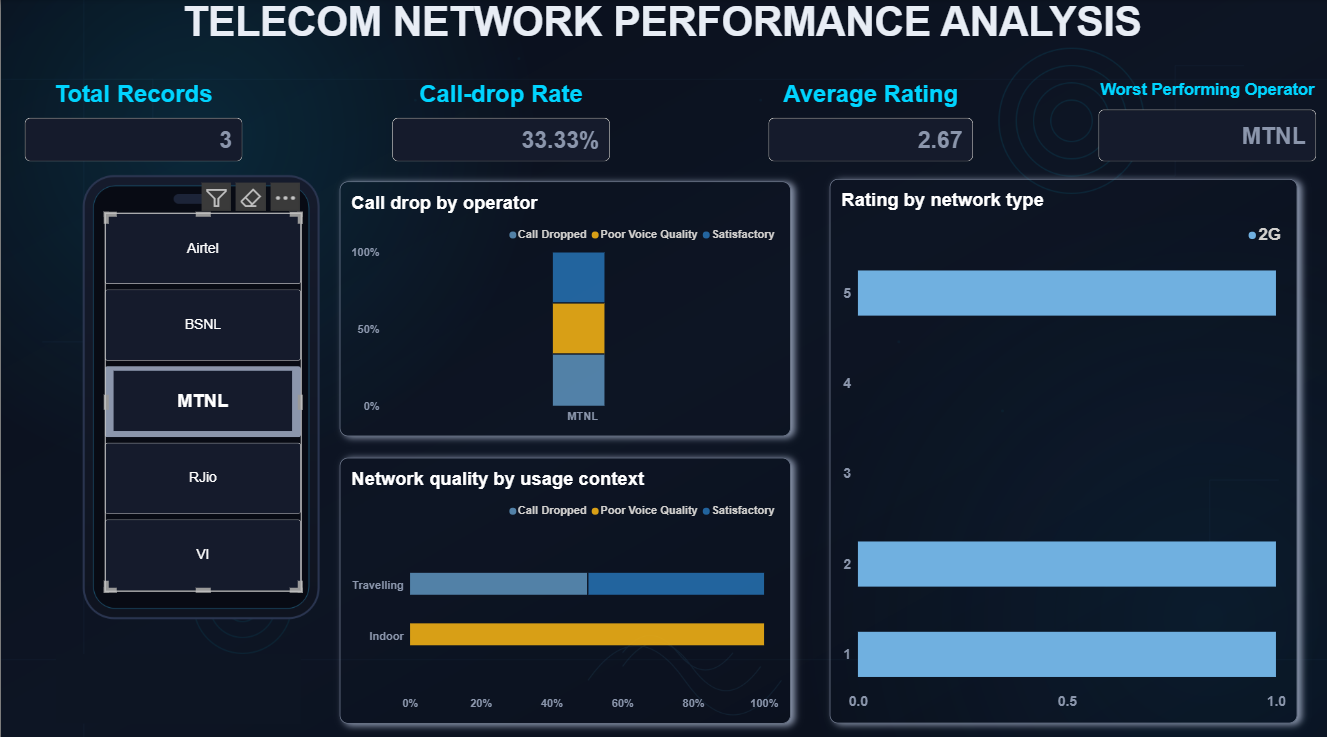

Layout of this report page (visuals, bound fields, positions):
{"tool":"powerbi","page":{"name":"Page 1","canvas":[1920,1080],"ordinal":0},"visuals":[{"type":"textbox","box":[10.3,0,1893.7,98.8],"z":0},{"type":"cardVisual","title":"Total Records","fields":{"Data":["Telecom Network.Total Records"]},"box":[35,117.3,315,118],"z":1000},{"type":"cardVisual","title":"Call-drop Rate","fields":{"Data":["Telecom Network.Call Drop Rate"]},"box":[566,117.3,315,118],"z":2000},{"type":"cardVisual","title":"Average Rating","fields":{"Data":["Telecom Network.Average Rating"]},"box":[1111.5,117.3,296,118],"z":3000},{"type":"cardVisual","title":"Worst Performing Operator","fields":{"Data":["Telecom Network.Worst Operator Name"]},"box":[1589,117.3,315,118],"z":4000},{"type":"hundredPercentStackedColumnChart","title":"Call drop by operator","fields":{"Category":["Telecom Network.operator"],"Y":["Telecom Network.Total Records"],"Series":["Telecom Network.calldrop_category"]},"box":[489.9,263.5,652.5,368.4],"z":5000},{"type":"clusteredBarChart","title":"Rating by network type","fields":{"Category":["Telecom Network.rating"],"Y":["Telecom Network.Total Records"],"Series":["Telecom Network.network_type"]},"box":[1200,261.4,677.2,788.3],"z":5002},{"type":"hundredPercentStackedBarChart","title":"Network quality by usage context","fields":{"Category":["Telecom Network.inout_travelling"],"Y":["Telecom Network.Total Records"],"Series":["Telecom Network.calldrop_category"]},"box":[489.9,664.8,652.5,384.9],"z":5003},{"type":"advancedSlicerVisual","fields":{"Values":["Telecom Network.operator"]},"box":[150.3,308.7,284,549.6],"z":5004},{"type":"textbox","box":[80.3,948.9,354,100.9],"z":5005}]}

Visuals, with their boxes in screenshot pixels (x1, y1, x2, y2), scaled from the page's 1920x1080 canvas onto the 1327x737 screenshot:
textbox: [7, 0, 1316, 67]
"Total Records" cardVisual: [24, 80, 242, 161]
"Call-drop Rate" cardVisual: [391, 80, 609, 161]
"Average Rating" cardVisual: [768, 80, 973, 161]
"Worst Performing Operator" cardVisual: [1098, 80, 1316, 161]
"Call drop by operator" hundredPercentStackedColumnChart: [339, 180, 790, 431]
"Rating by network type" clusteredBarChart: [829, 178, 1297, 716]
"Network quality by usage context" hundredPercentStackedBarChart: [339, 454, 790, 716]
advancedSlicerVisual - Telecom Network.operator: [104, 211, 300, 586]
textbox: [55, 648, 300, 716]
